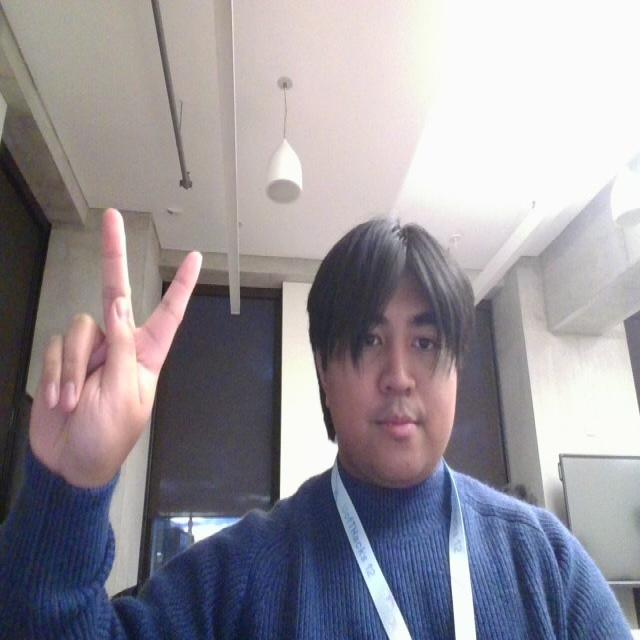Ksign: (22, 200, 211, 502)
